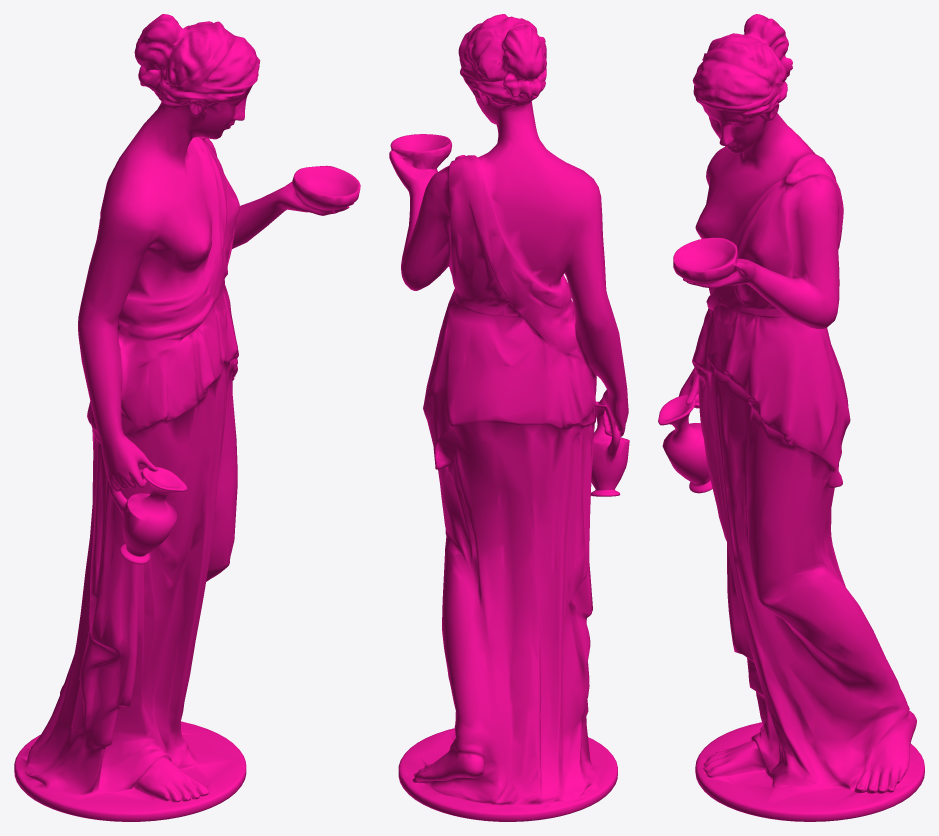
The model's file is venus.obj.
3 renders of one model, left to right at view 1: azimuth 30°, elevation 25°; view 2: azimuth 150°, elevation 25°; view 3: azimuth 270°, elevation 25°, orthographic. The views are drawn at different scales.
Parts seen in each view (by area): view 1: Box001; view 2: Box001; view 3: Box001.
Boxes of the visible parts, bbox=[...] form: Box001: bbox=[14, 14, 360, 821]; Box001: bbox=[389, 14, 629, 821]; Box001: bbox=[658, 14, 924, 821].
Bounding box in the file's own units: 0.7467 × 2.02 × 0.6402.
